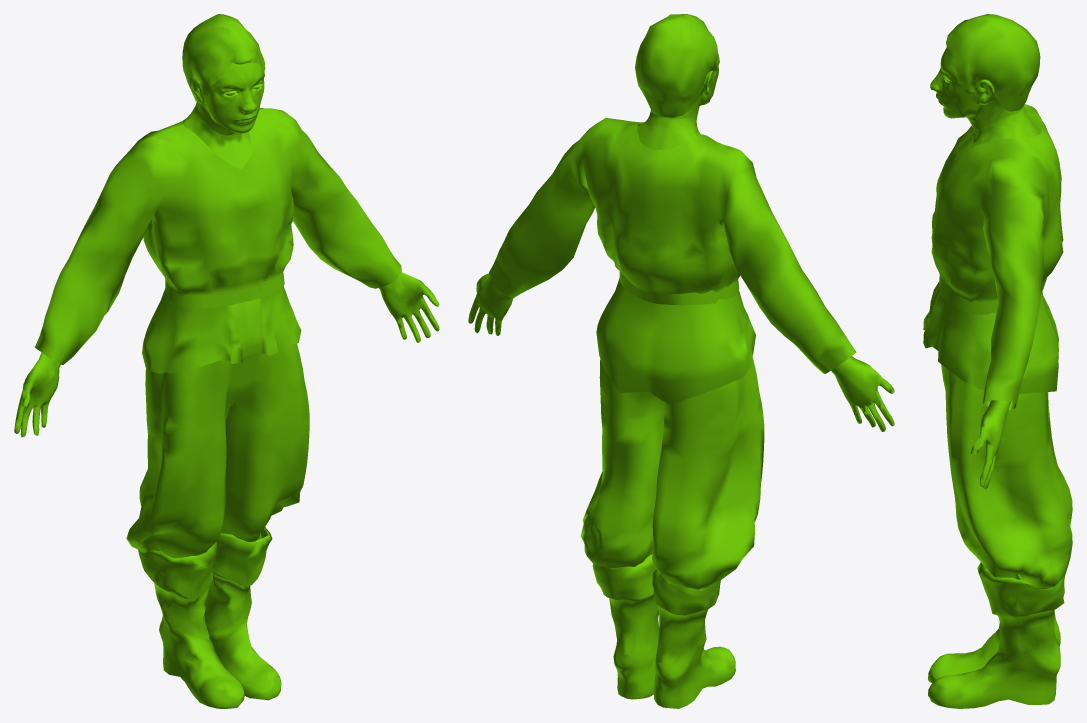
File: Male_Npc.fbx
3 renders of one model, left to right at view 1: azimuth 30°, elevation 25°; view 2: azimuth 150°, elevation 25°; view 3: azimuth 270°, elevation 25°, orthographic.
Visible parts, largest first — view 1: polySurface16; view 2: polySurface16; view 3: polySurface16.
Boxes of the visible parts, left/top/right/bottom form: polySurface16: left=14, top=14, right=439, bottom=708; polySurface16: left=468, top=14, right=894, bottom=708; polySurface16: left=923, top=14, right=1072, bottom=708.
Bounding box in the file's own units: 1.39 × 2.06 × 0.4145.
